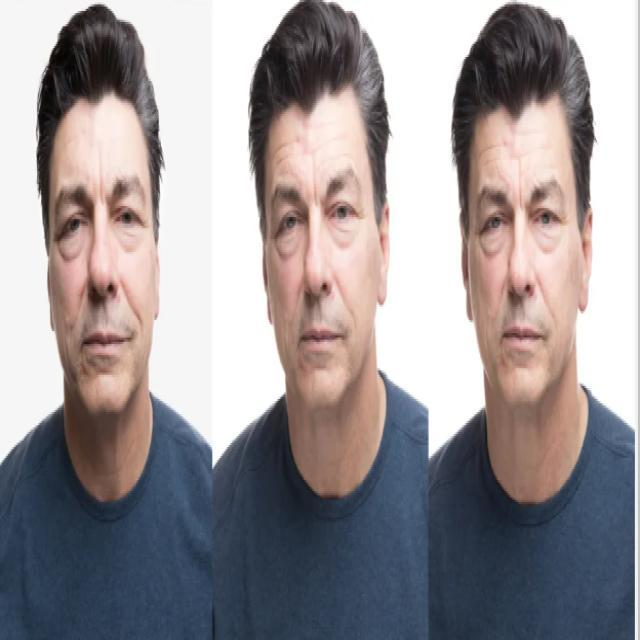face_no_mask: (457, 102, 598, 410), (255, 106, 392, 408), (40, 84, 164, 416)
